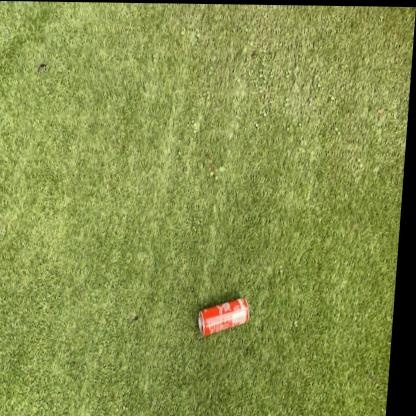trash: (198, 297, 248, 335)
